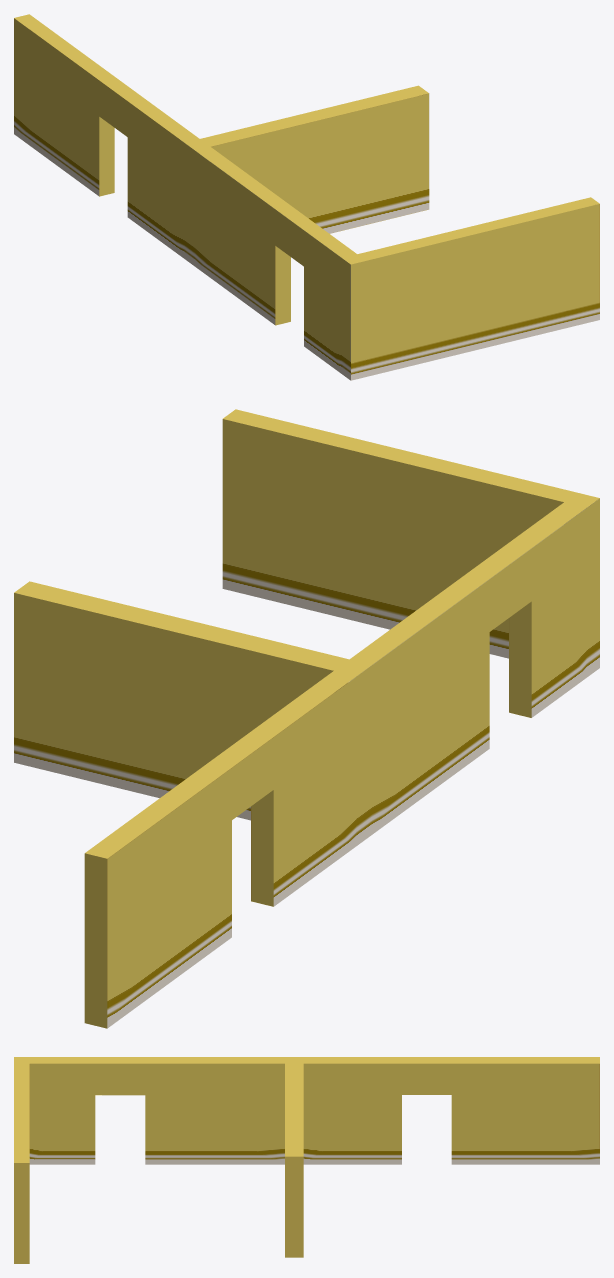
The model's file is School Classroom Right Side.fbx.
3 views of the same model, one above another, from view 1: azimuth 30°, elevation 25°; view 2: azimuth 150°, elevation 25°; view 3: azimuth 270°, elevation 25° (orthographic). The views are drawn at different scales.
Parts seen in each view (by area): view 1: Classroom3; view 2: Classroom3; view 3: Classroom3.
Part boxes in pixels (bbox=[...]): Classroom3: bbox=[14, 14, 599, 380]; Classroom3: bbox=[14, 409, 599, 1028]; Classroom3: bbox=[14, 1057, 599, 1263].
Bounding box in the file's own units: 935 × 417 × 2190.
1 material, 1 textured.
